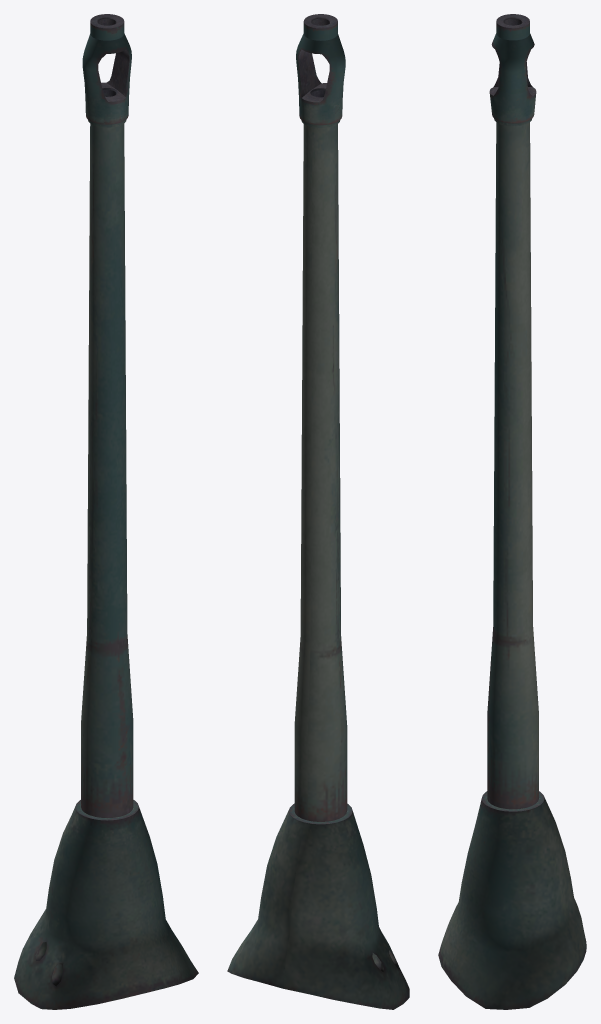
Rendered from Gun_01.glb.
The picture shows the model from 3 angles, left to right: view 1: azimuth 30°, elevation 25°; view 2: azimuth 150°, elevation 25°; view 3: azimuth 270°, elevation 25°; orthographic projection.
Visible parts, largest first — view 1: set_0_group_0; view 2: set_0_group_0; view 3: set_0_group_0.
Boxes of the visible parts, x1=… form: set_0_group_0: x1=14, y1=14, x2=198, y2=1009; set_0_group_0: x1=227, y1=14, x2=409, y2=1009; set_0_group_0: x1=438, y1=14, x2=586, y2=1009.
Bounding box in the file's own units: 0.9102 × 5.19 × 0.7341.
1 material, 1 textured.
